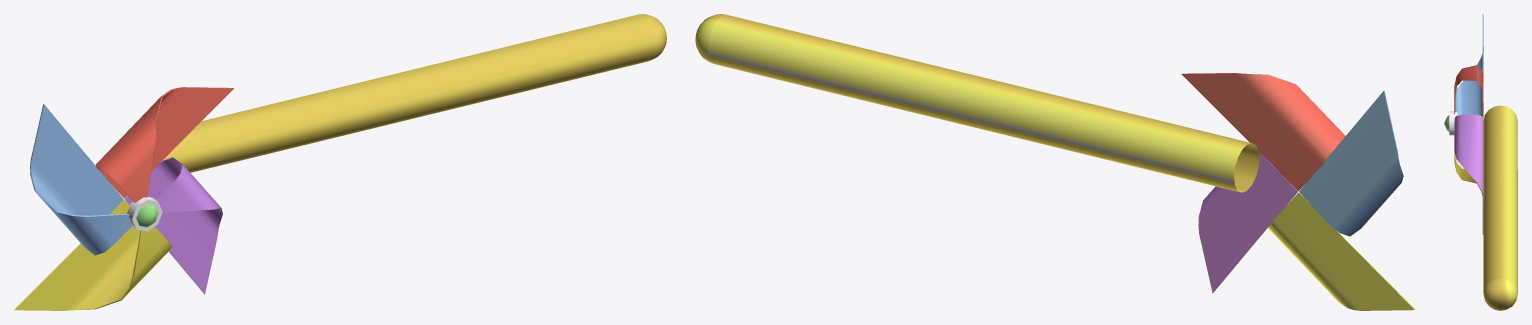
The model's file is 57_Pin_Wheel.fbx.
3 renders of one model, left to right at view 1: azimuth 30°, elevation 25°; view 2: azimuth 150°, elevation 25°; view 3: azimuth 270°, elevation 25°, orthographic. The views are drawn at different scales.
Parts seen in each view (by area): view 1: Pin_Wheel_head, Pin_Wheel_body, Pin_Wheel_tail; view 2: Pin_Wheel_head, Pin_Wheel_body, Pin_Wheel_tail; view 3: Pin_Wheel_body, Pin_Wheel_head, Pin_Wheel_tail.
Boxes of the visible parts, x1,y1,x2,y2 form: Pin_Wheel_head: (14,87,233,310); Pin_Wheel_body: (163,14,654,172); Pin_Wheel_tail: (639,14,666,61); Pin_Wheel_head: (1181,73,1415,310); Pin_Wheel_body: (708,14,1259,192); Pin_Wheel_tail: (695,14,724,63); Pin_Wheel_body: (1483,105,1517,292); Pin_Wheel_head: (1444,14,1483,234); Pin_Wheel_tail: (1483,278,1517,310).
Bounding box in the file's own units: 4.01 × 1.33 × 0.542.
